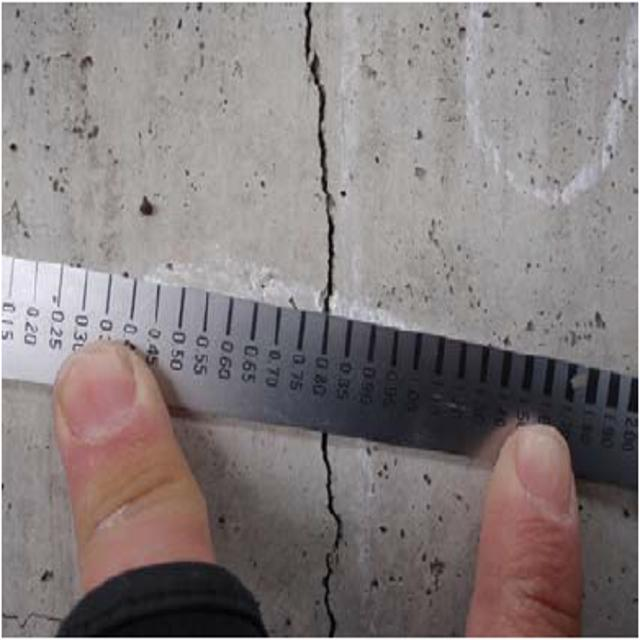crack: (294, 7, 356, 317), (298, 428, 354, 640)
